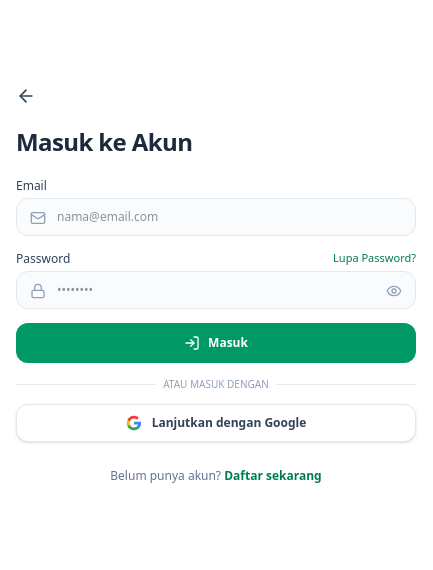
Test: LoginPage Component Unit Tests › switches between Login and Register tabs
This screenshot has width=433, height=570.
Click the button "Daftar sekarang": {"x": 273, "y": 476} top-left (224, 468), bottom-right (322, 484)
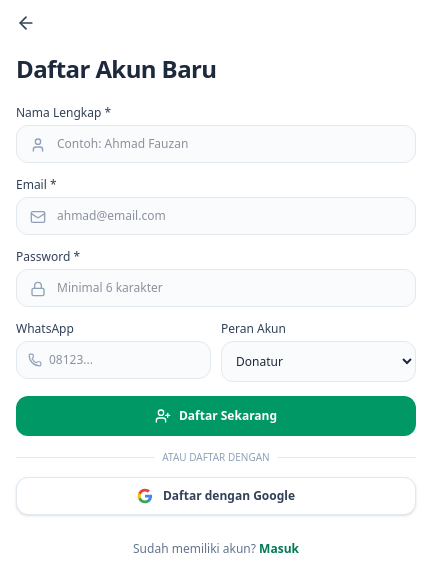
Expected: the field with placeholder "Contoh: Ahmad Fauzan" is shown, top-left (16, 125), bottom-right (416, 163)
Expected: the button "Daftar Sekarang" is shown, top-left (16, 396), bottom-right (416, 436)
